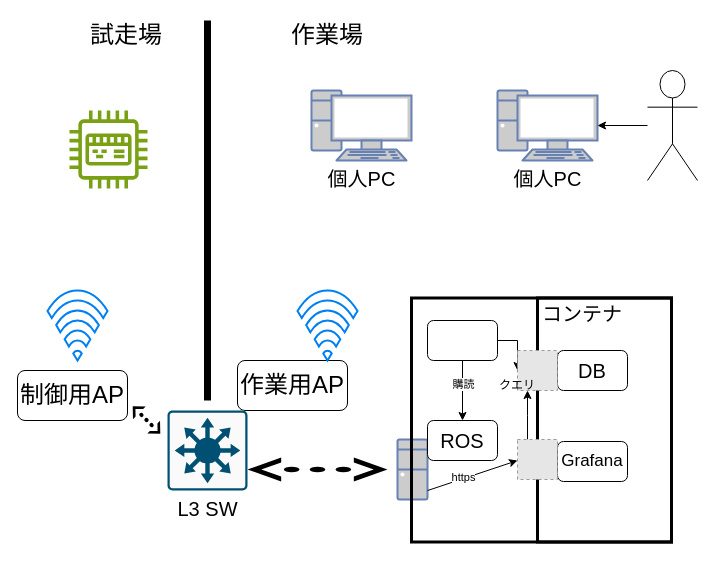
Some shapes in this 715 by 561 pixel diagram are drawn without their labels. Grey dashed boxes stand in for pictures. Each missing label, with the centre of its shape:
"Actor" belongs at [672,125].
"DBクライアント" belongs at [462,340].
"ロガー" belongs at [412,469].
"制御用PC" belongs at [108,149].
